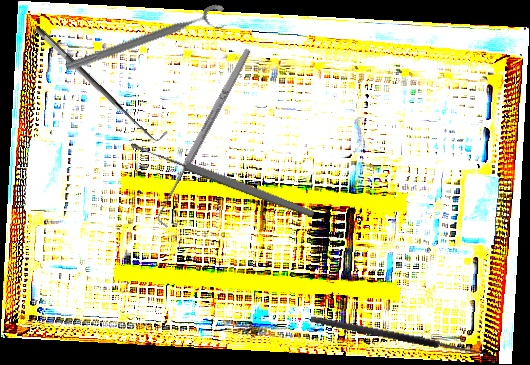Fixation Ring: (63, 2, 231, 84)
Hook Surgical: (150, 45, 260, 229), (33, 16, 169, 149), (310, 306, 493, 359)
Surgical Spoon: (129, 139, 316, 220)
